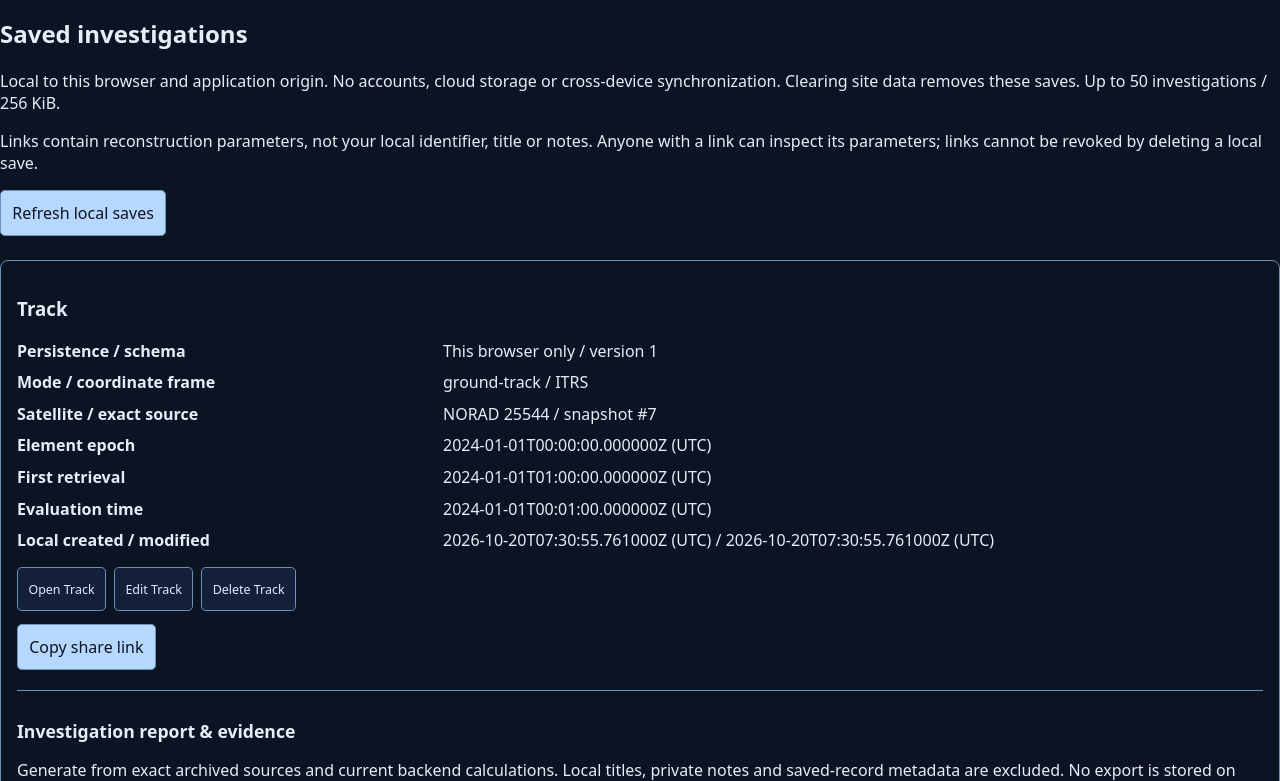
Test: updates bounded track sampling and preserves exact source provenance
Step 1. Click the button "Edit Track" → (154, 589), box [114,567,193,611]
(page scrolled)
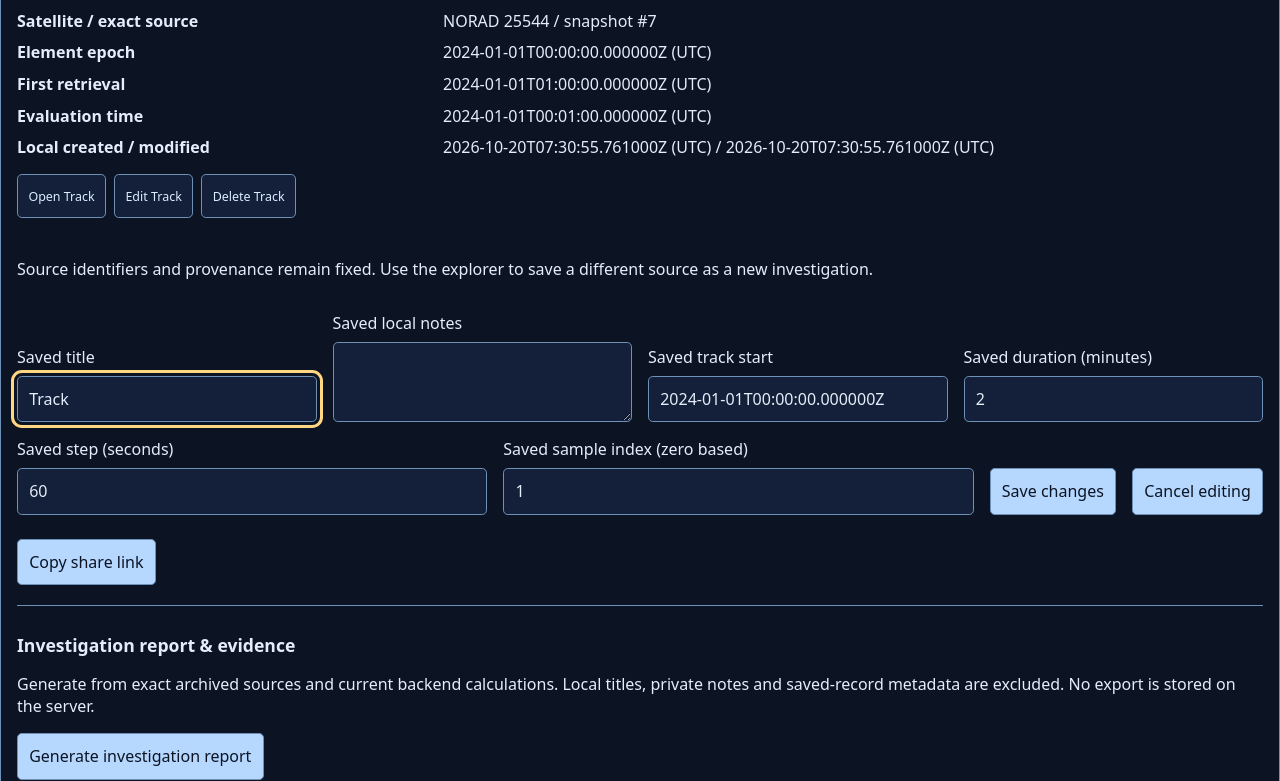
Step 2. Replace the text in the number field labelled "Saved step (seconds)" with "120" → (252, 491), box [17,468,487,515]
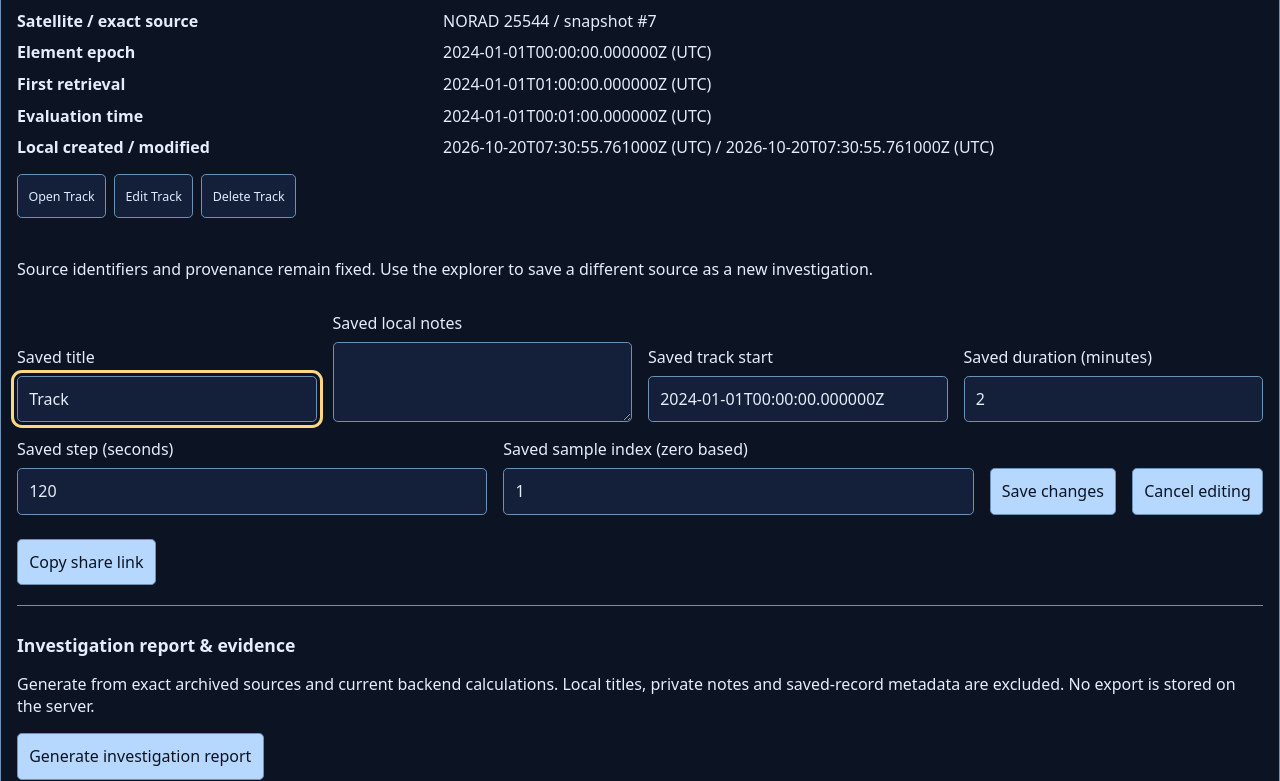
Step 3. Click the button "Save changes" → (1053, 491), box [990,468,1116,515]
(page scrolled)
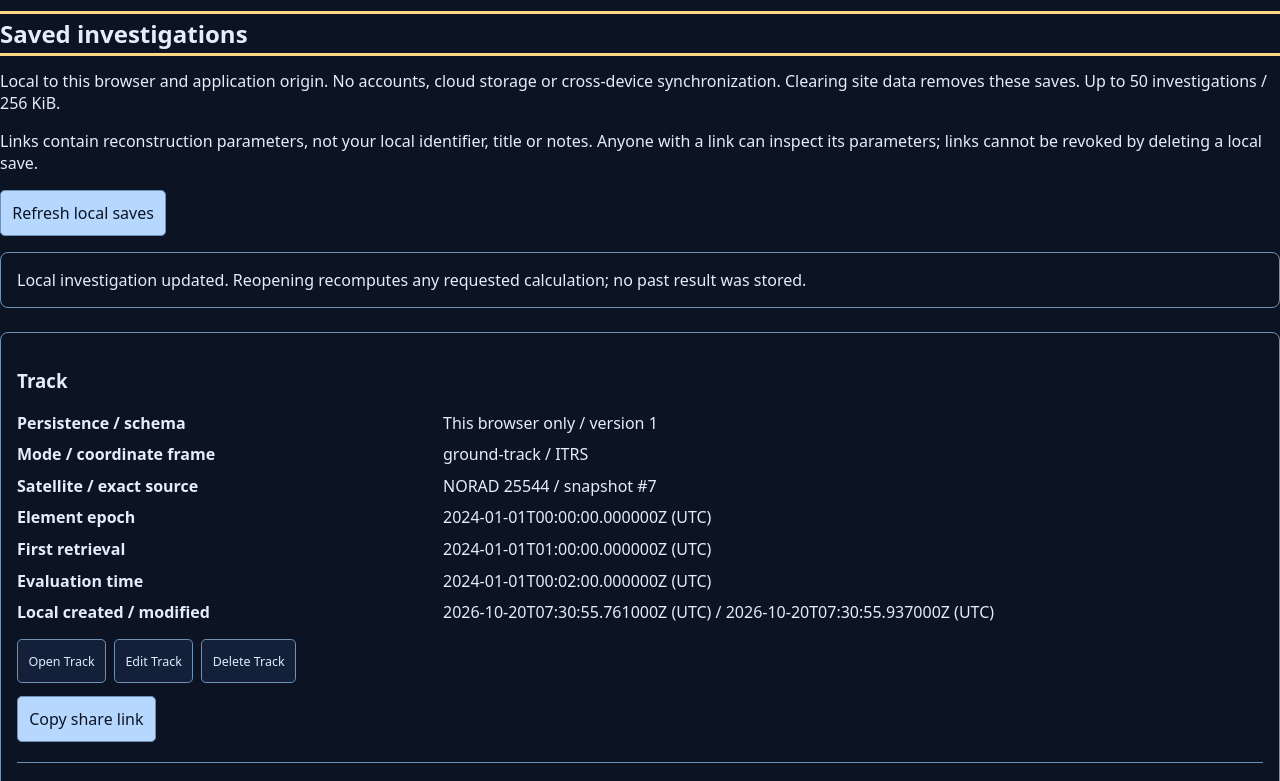
Expected: the text "Local investigation updated" is shown, [17,269,806,291]
